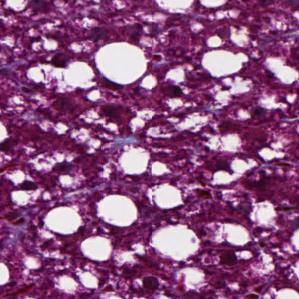steatosis: (96, 41, 148, 84), (152, 223, 198, 257), (95, 194, 141, 226), (45, 206, 81, 236), (80, 239, 113, 258)
